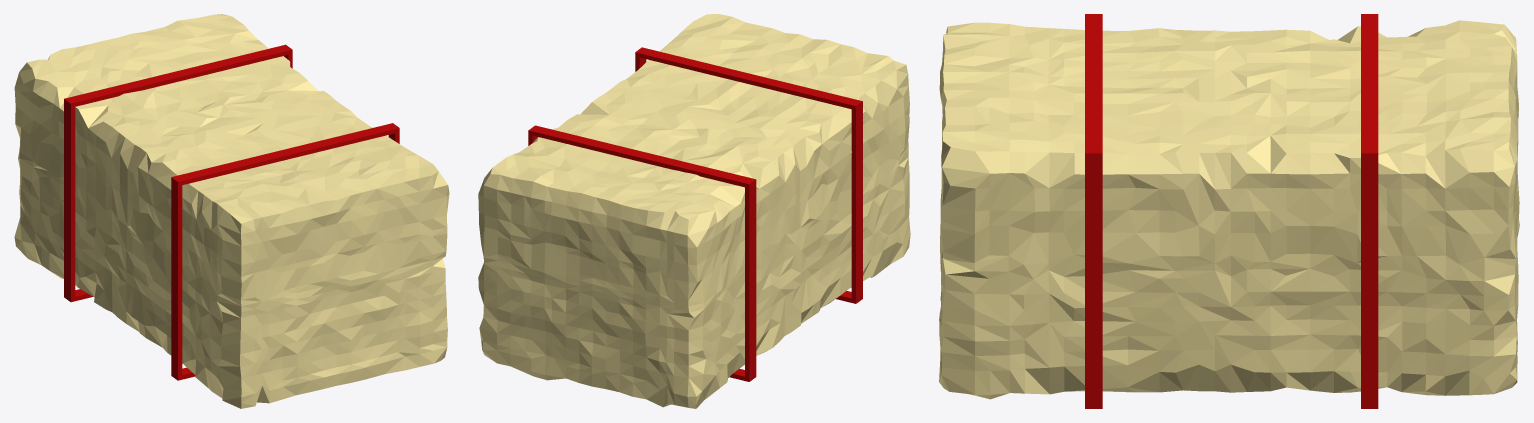
The model's file is hayBale.fbx.
3 views of the same model, side by side, from view 1: azimuth 30°, elevation 25°; view 2: azimuth 150°, elevation 25°; view 3: azimuth 270°, elevation 25° (orthographic). The views are drawn at different scales.
Parts seen in each view (by area): view 1: straw, strap1, strap2; view 2: straw, strap1, strap2; view 3: straw, strap1, strap2.
Boxes of the visible parts, x1=… form: straw: x1=14, y1=14, x2=449, y2=408; strap1: x1=171, y1=123, x2=399, y2=380; strap2: x1=64, y1=44, x2=292, y2=302; straw: x1=478, y1=14, x2=910, y2=408; strap1: x1=635, y1=47, x2=862, y2=303; strap2: x1=528, y1=125, x2=756, y2=381; straw: x1=939, y1=20, x2=1519, y2=399; strap1: x1=1085, y1=14, x2=1102, y2=408; strap2: x1=1361, y1=14, x2=1378, y2=408.
Size of the model in its own units: 1.48 by 1.26 by 2.59.
